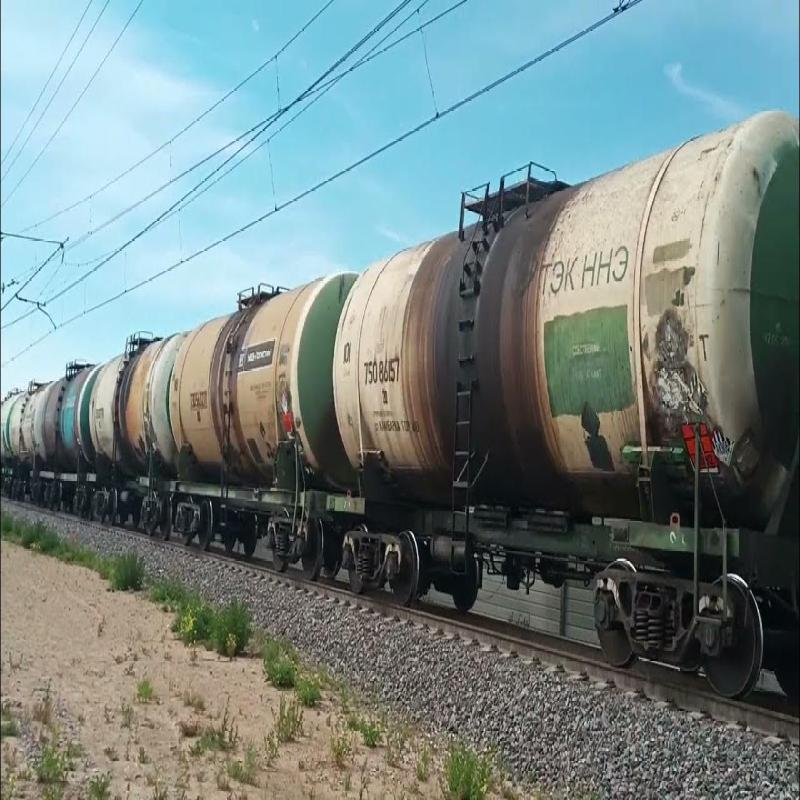train: (339, 119, 800, 708), (169, 236, 391, 592), (86, 288, 196, 518), (22, 334, 115, 520)
